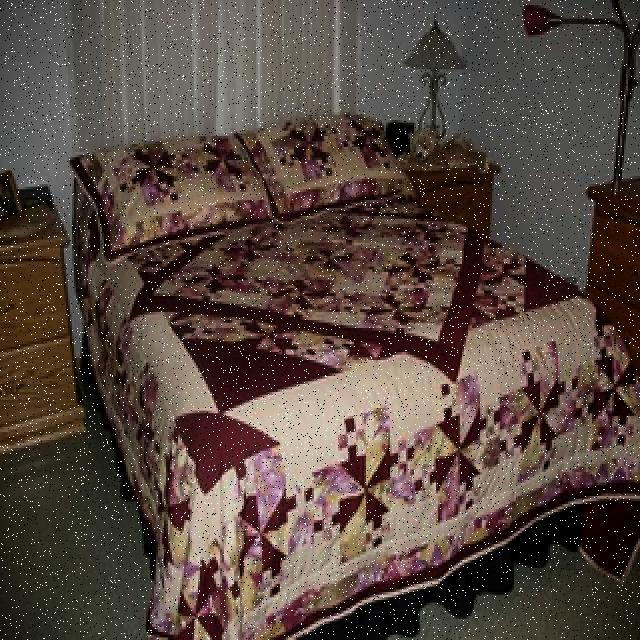bed: (67, 107, 610, 631)
